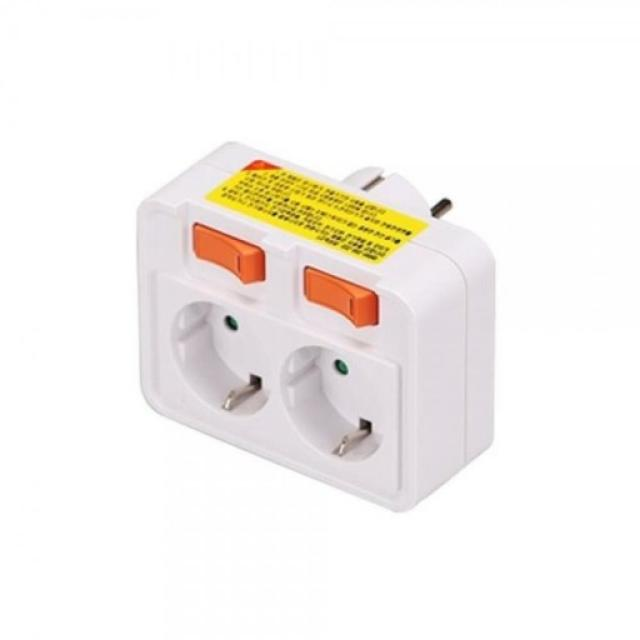typeb: (74, 105, 586, 549)
